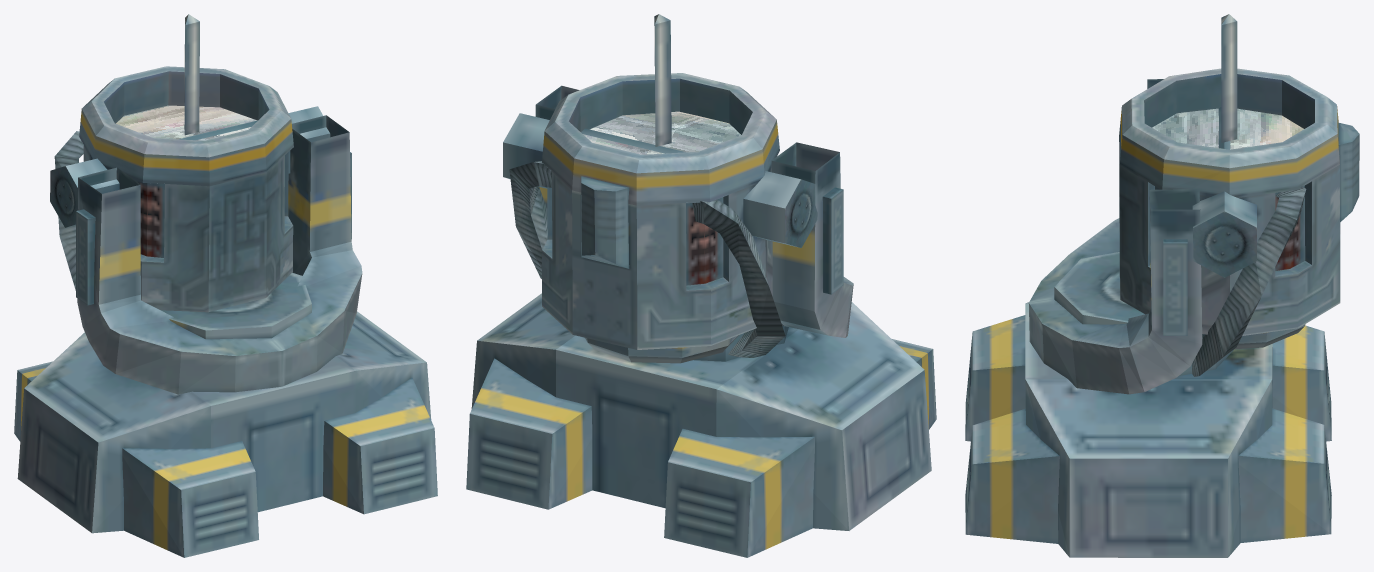
File: C4SMSEARCHLGHTH.obj
3 views of the same model, side by side, from view 1: azimuth 30°, elevation 25°; view 2: azimuth 150°, elevation 25°; view 3: azimuth 270°, elevation 25° (orthographic). The views are drawn at different scales.
Parts seen in each view (by area): view 1: Node 0, Node 4, Node 3; view 2: Node 0, Node 4, Node 3; view 3: Node 0, Node 4, Node 3.
Boxes of the visible parts, x1=… form: Node 0: x1=14, y1=311, x2=437, y2=557; Node 4: x1=50, y1=14, x2=330, y2=312; Node 3: x1=76, y1=115, x2=362, y2=394; Node 0: x1=466, y1=293, x2=936, y2=557; Node 4: x1=503, y1=14, x2=817, y2=363; Node 3: x1=535, y1=85, x2=853, y2=361; Node 0: x1=965, y1=302, x2=1331, y2=557; Node 4: x1=1119, y1=14, x2=1359, y2=376; Node 3: x1=1028, y1=79, x2=1233, y2=394.
Bounding box in the file's own units: 7.47 × 8.84 × 6.95.
Materials: 5 (5 with a texture image).
